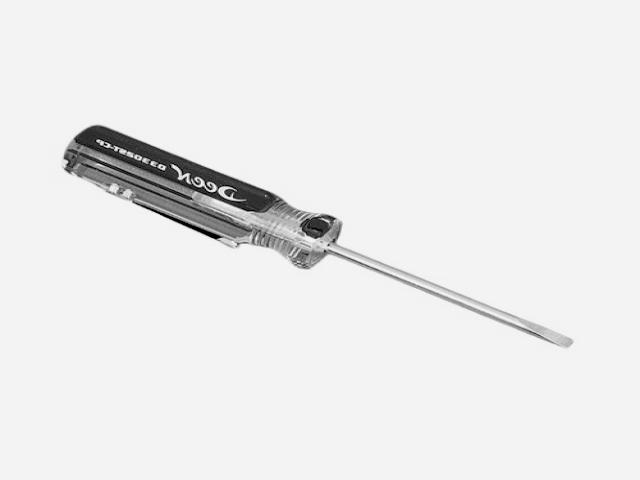Screwdriver: (64, 126, 572, 347)
